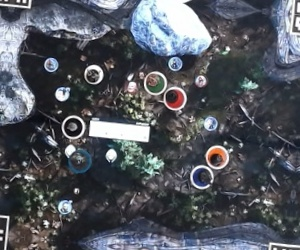black: (61, 116, 86, 141)
blue: (192, 166, 217, 191)
brown_turquoise: (65, 150, 90, 176)
green: (144, 67, 169, 92)
orange: (210, 146, 236, 171)
red: (163, 86, 188, 111)
white: (79, 60, 104, 86)
